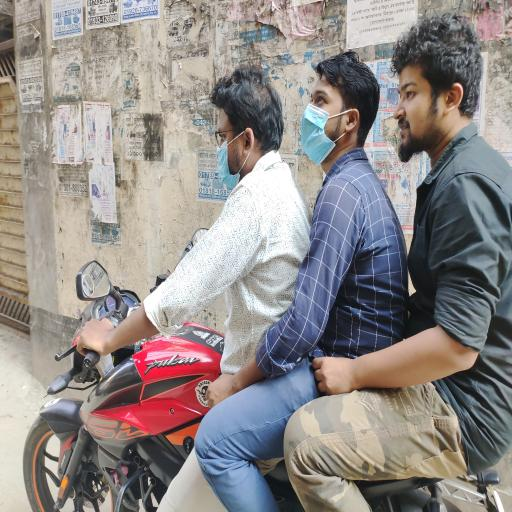helmet: (299, 102, 359, 166)
